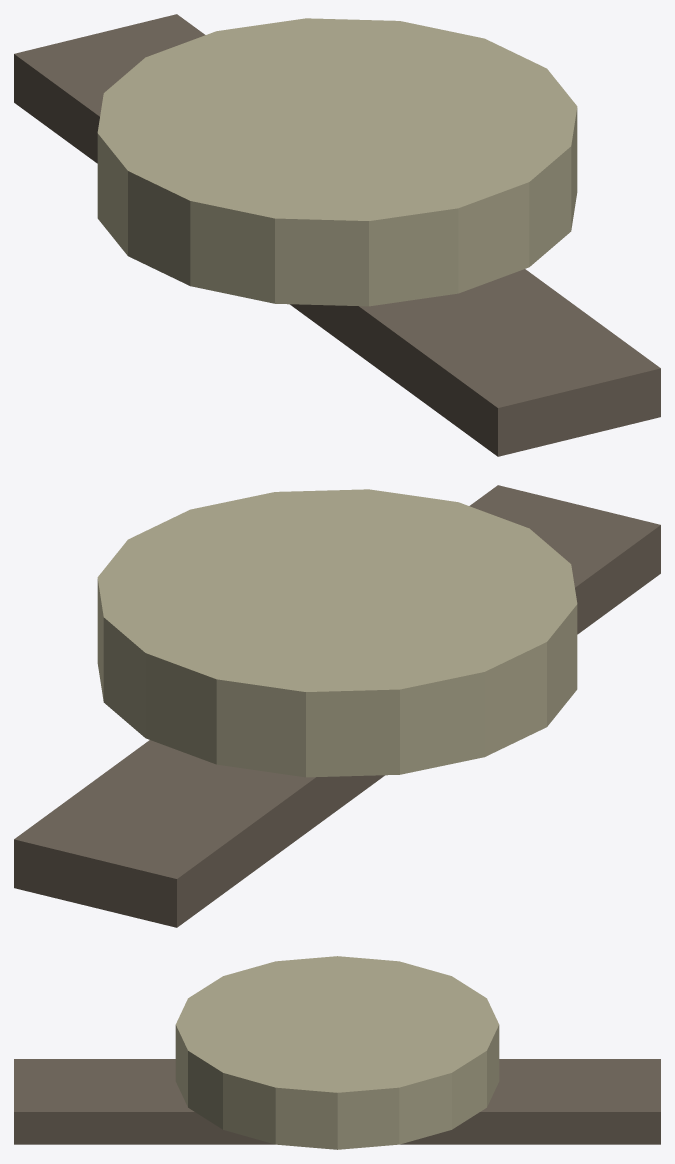
Rendered from loot_watch.glb.
The picture shows the model from 3 angles, top to bottom: view 1: azimuth 30°, elevation 25°; view 2: azimuth 150°, elevation 25°; view 3: azimuth 270°, elevation 25°; orthographic projection. The views are drawn at different scales.
Visible parts, largest first — view 1: face_0, strap_1; view 2: face_0, strap_1; view 3: face_0, strap_1.
Boxes of the visible parts, bbox=[...] form: face_0: bbox=[97, 18, 577, 306]; strap_1: bbox=[14, 14, 660, 456]; face_0: bbox=[97, 489, 577, 777]; strap_1: bbox=[14, 485, 660, 927]; face_0: bbox=[175, 956, 499, 1149]; strap_1: bbox=[14, 1059, 660, 1144].
Bounding box in the file's own units: 0.18 × 0.0575 × 0.36.
